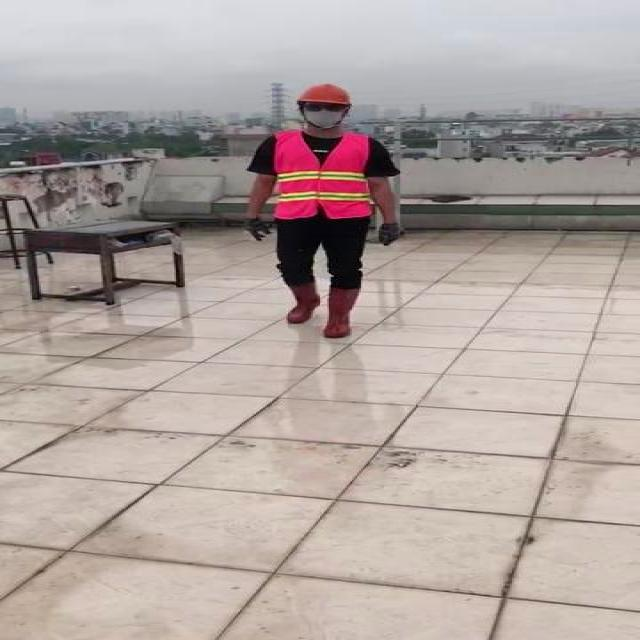boots: (322, 287, 364, 340), (283, 280, 318, 323)
face_mask: (303, 102, 348, 126)
glasses: (301, 101, 348, 114)
hand_glove: (244, 215, 274, 242), (377, 221, 407, 246)
head_helmet: (296, 82, 355, 106)
person: (237, 80, 412, 340)
vest: (272, 131, 372, 221)
